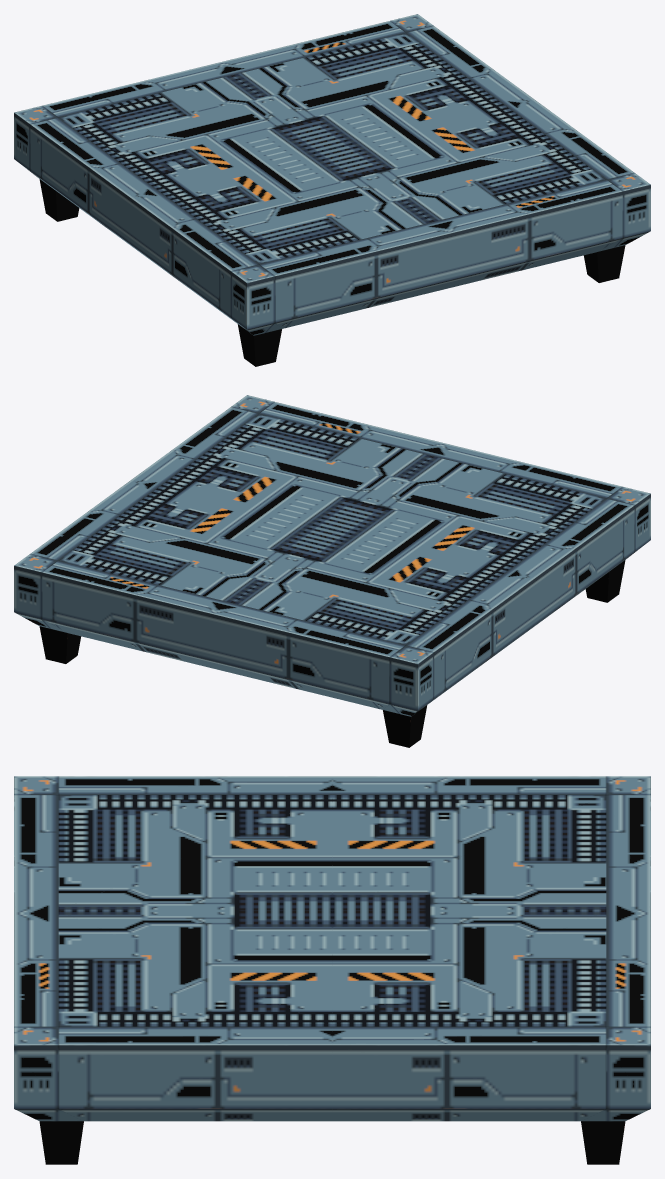
Rendered from FloatingPlatform_2x2_Metal.fbx.
The picture shows the model from 3 angles, top to bottom: view 1: azimuth 30°, elevation 25°; view 2: azimuth 150°, elevation 25°; view 3: azimuth 270°, elevation 25°; orthographic projection. The views are drawn at different scales.
Visible parts, largest first — view 1: Platform, Thrusters; view 2: Platform, Thrusters; view 3: Platform, Thrusters.
Boxes of the visible parts, x1,y1,x2,y2 form: Platform: (14, 14, 650, 335); Thrusters: (39, 179, 625, 366); Platform: (14, 395, 650, 716); Thrusters: (39, 560, 625, 747); Platform: (14, 776, 650, 1121); Thrusters: (39, 1121, 625, 1164).
Bounding box in the file's own units: 50 × 11.5 × 50.
